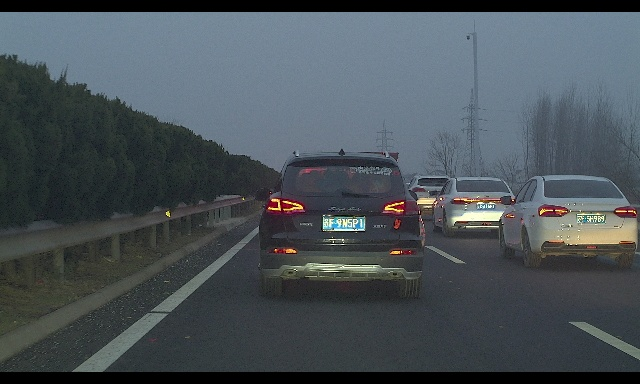car: (255, 149, 424, 299), (498, 174, 638, 268), (429, 176, 518, 237), (407, 174, 454, 222)
